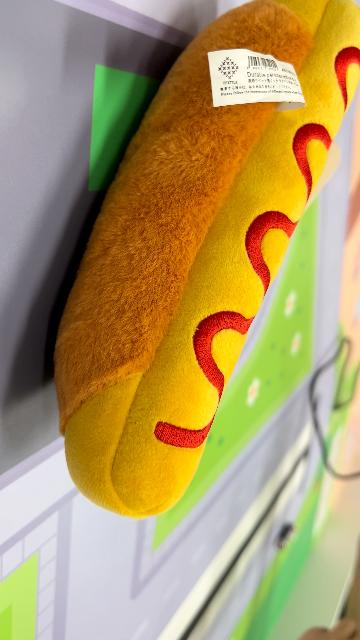hotdog: (52, 2, 358, 522)
